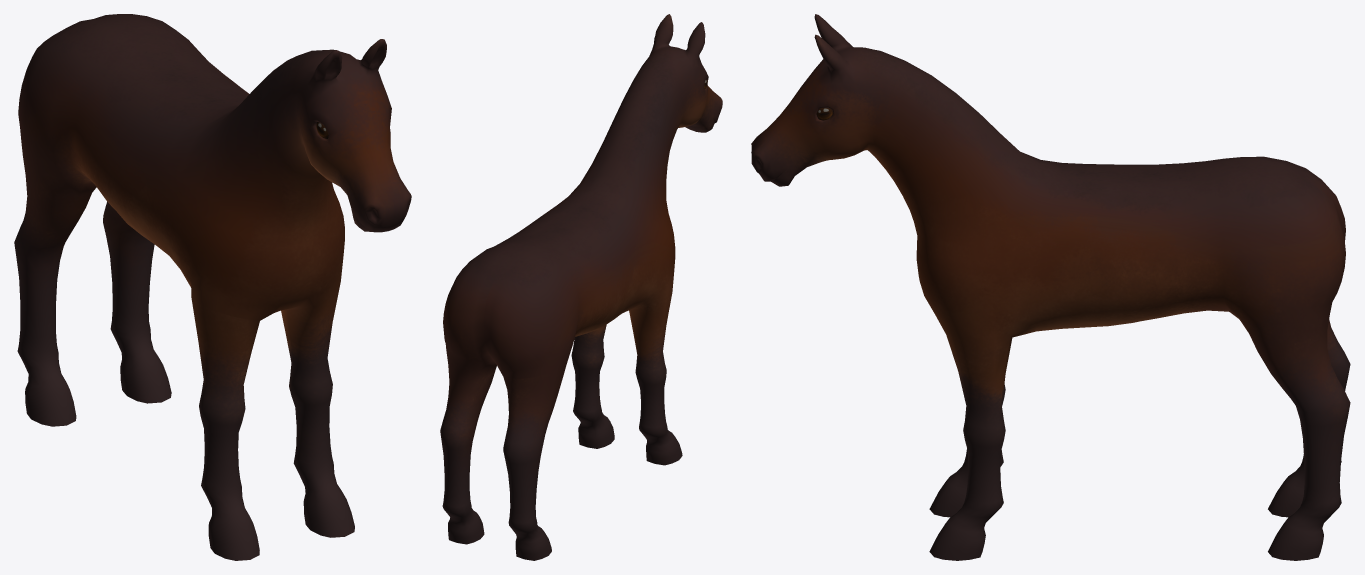
Rendered from pony.glb.
The picture shows the model from 3 angles, left to right: view 1: azimuth 30°, elevation 25°; view 2: azimuth 150°, elevation 25°; view 3: azimuth 270°, elevation 25°; orthographic projection. The views are drawn at different scales.
Visible parts, largest first — view 1: Pony; view 2: Pony; view 3: Pony.
Part boxes in pixels (x1=…): Pony: x1=14, y1=14, x2=411, y2=560; Pony: x1=440, y1=14, x2=722, y2=560; Pony: x1=751, y1=14, x2=1350, y2=560.
Bounding box in the file's own units: 1.18 × 3.88 × 4.16.
2 materials, 2 textured.
